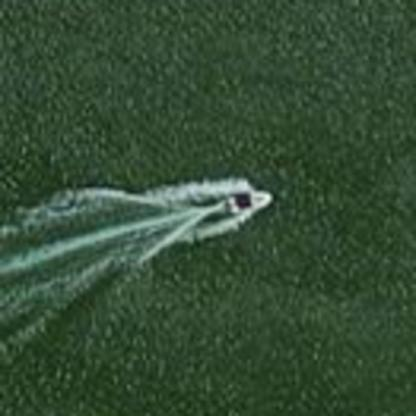ship: (216, 184, 274, 216)
